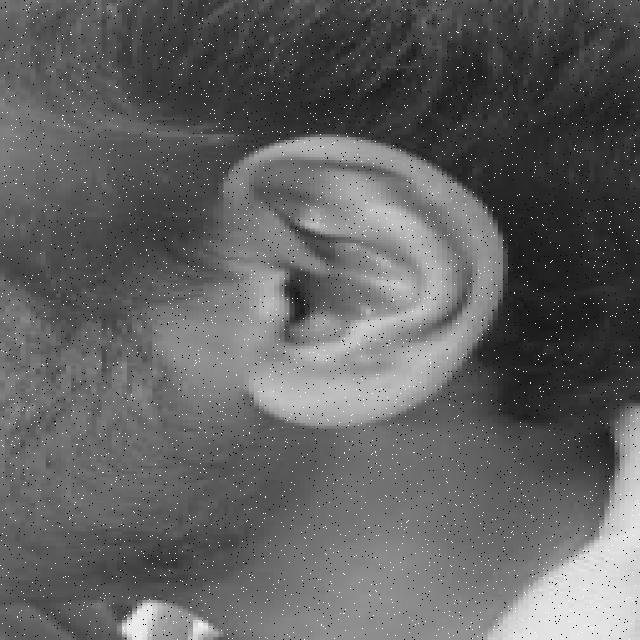ear: (223, 137, 498, 426)
